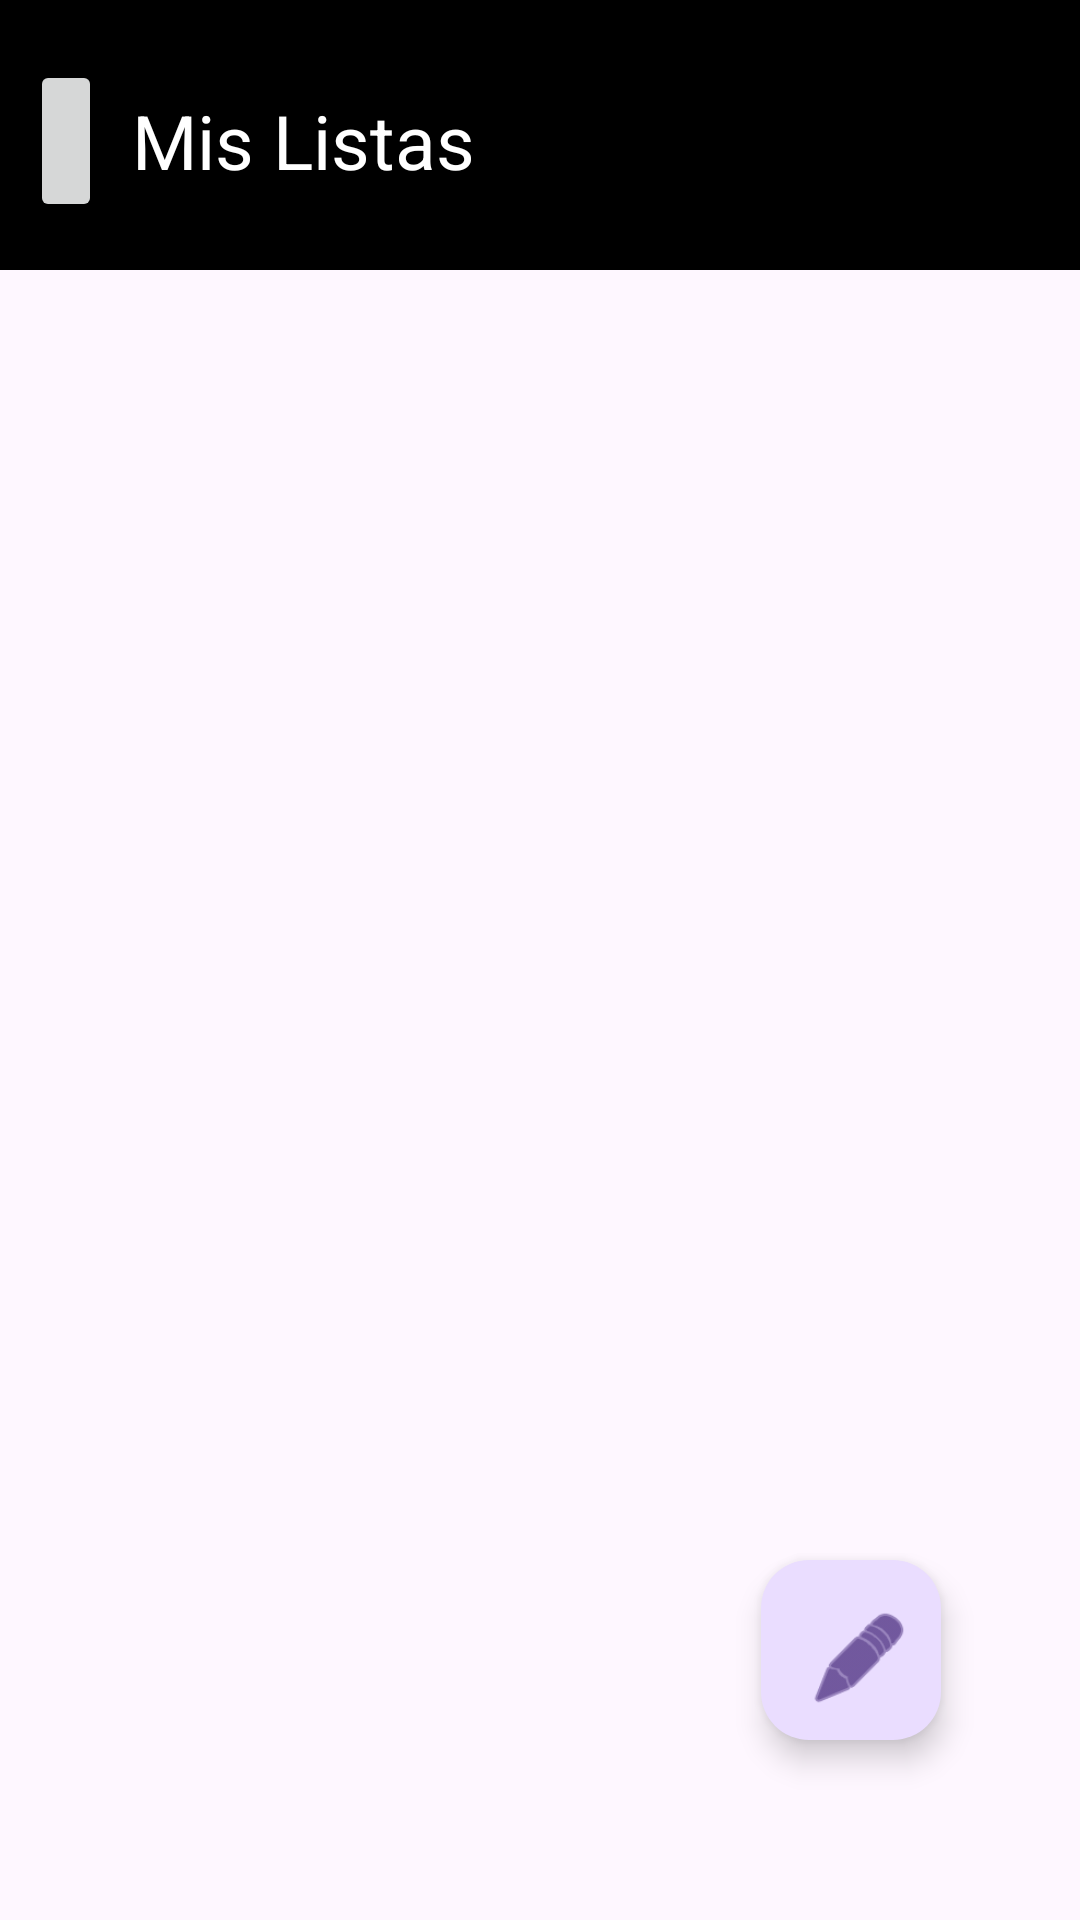

Where icons sit on this 1080 × 1920 app screen, as (x1, y1, x2, y2):
edit: (761, 1560, 941, 1740)
